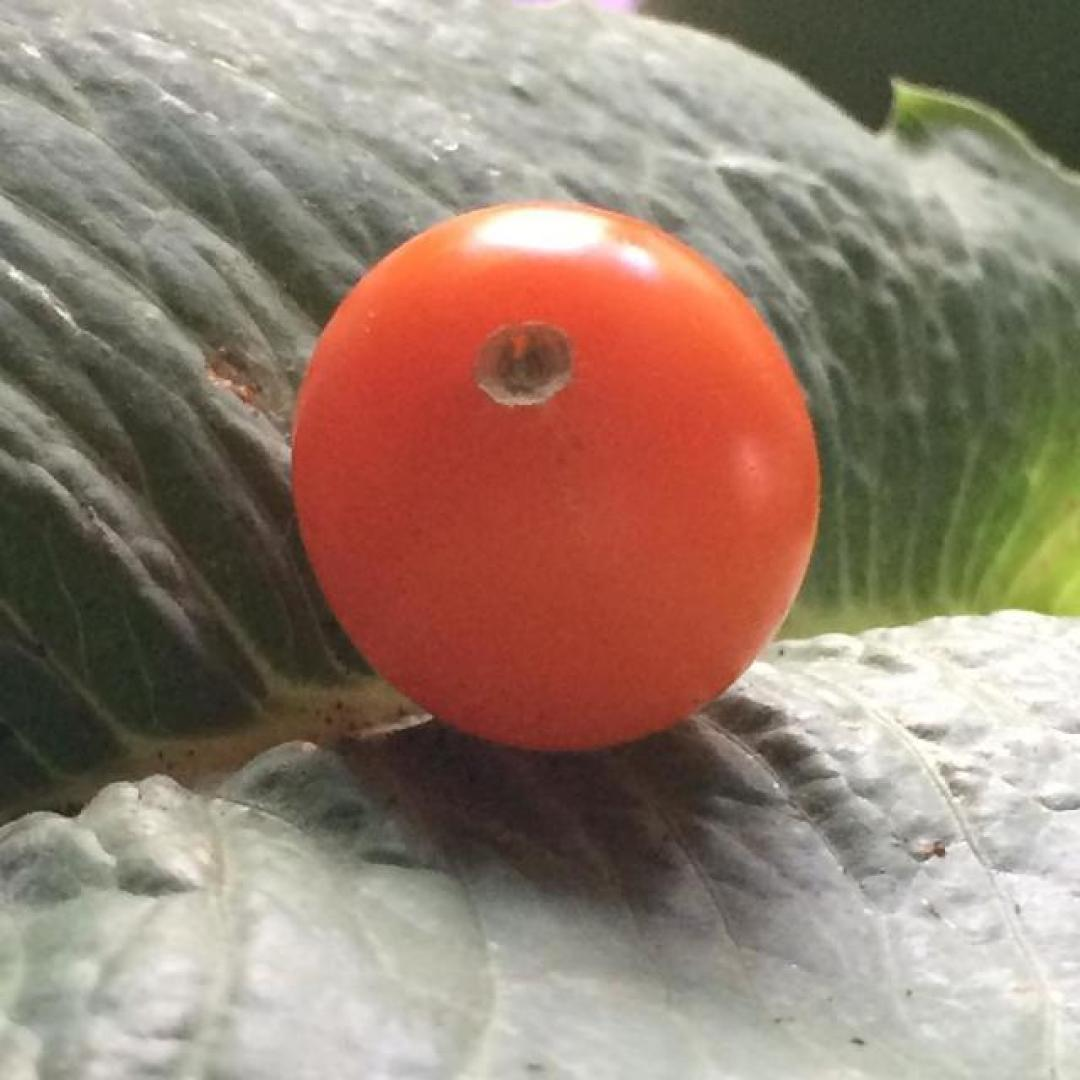matang: (287, 198, 823, 752)
